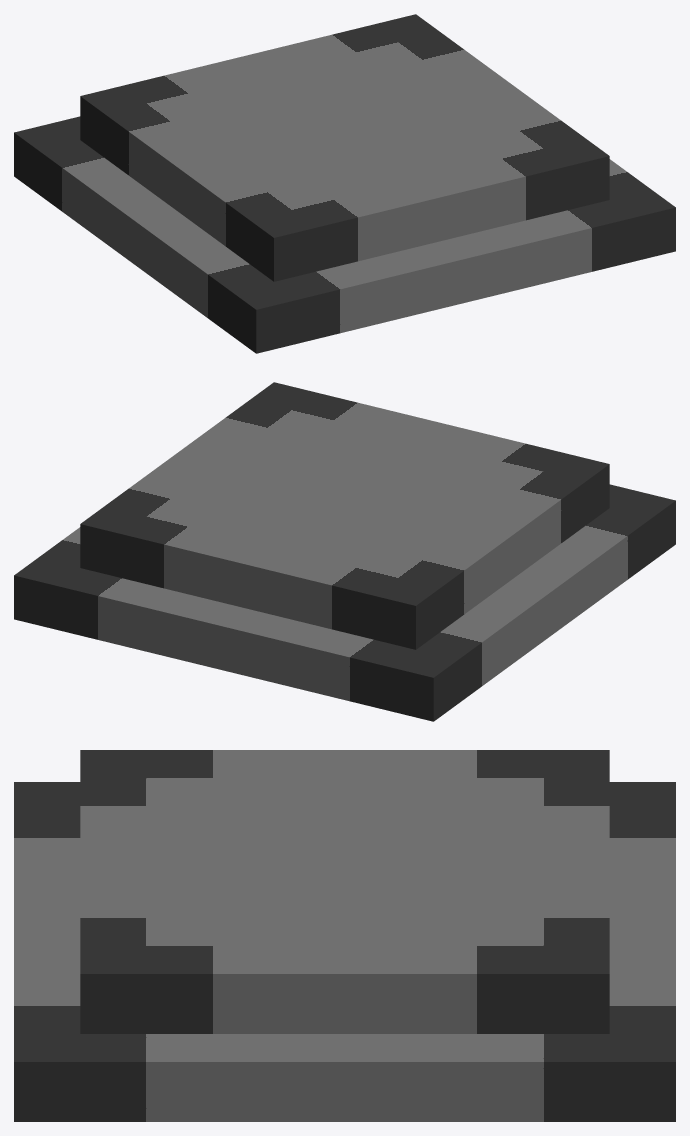
Rendered from Matrix.fbx.
3 renders of one model, top to bottom at view 1: azimuth 30°, elevation 25°; view 2: azimuth 150°, elevation 25°; view 3: azimuth 270°, elevation 25°, orthographic. The views are drawn at different scales.
Visible parts, largest first — view 1: Matrix; view 2: Matrix; view 3: Matrix.
Part boxes in pixels (x1,y1,x2,y2): Matrix: (14, 14, 675, 353); Matrix: (14, 382, 675, 721); Matrix: (14, 750, 675, 1121).
Bounding box in the file's own units: 10 × 2 × 10.
1 material, 1 textured.
